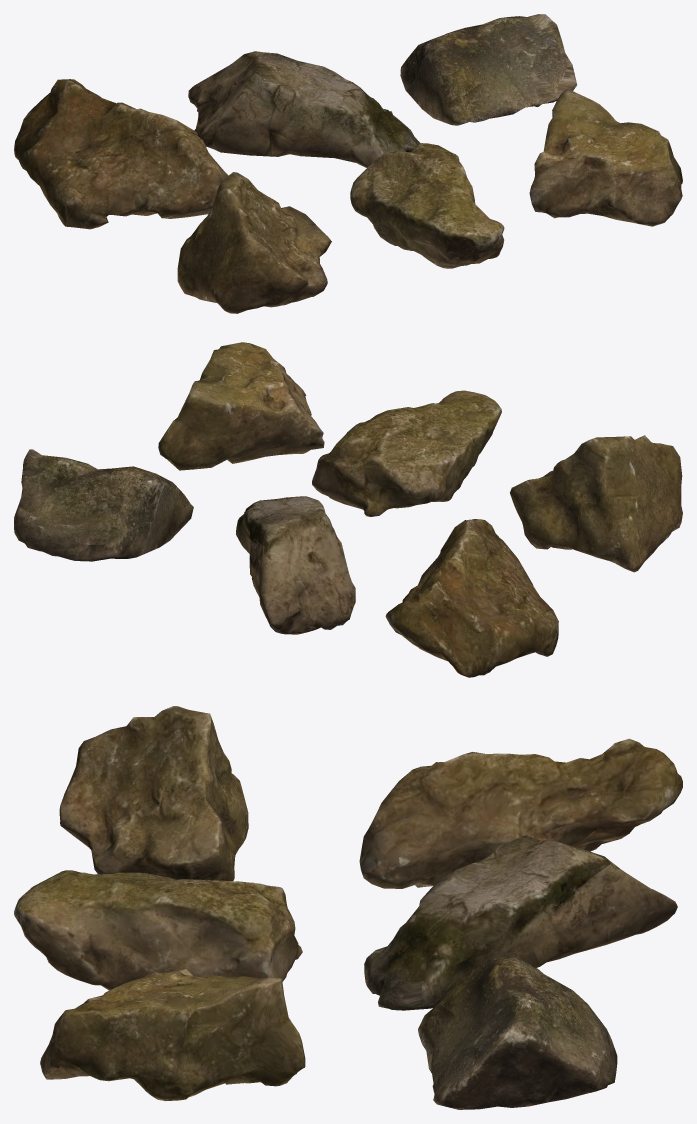
Rendered from rock_moss_set_01.glb.
The picture shows the model from 3 angles, top to bottom: view 1: azimuth 30°, elevation 25°; view 2: azimuth 150°, elevation 25°; view 3: azimuth 270°, elevation 25°; orthographic projection. The views are drawn at different scales.
Parts seen in each view (by area): view 1: rock_moss_set_01_rock01, rock_moss_set_01_rock02, rock_moss_set_01_rock06, rock_moss_set_01_rock04, rock_moss_set_01_rock03, rock_moss_set_01_rock05; view 2: rock_moss_set_01_rock04, rock_moss_set_01_rock01, rock_moss_set_01_rock05, rock_moss_set_01_rock03, rock_moss_set_01_rock06, rock_moss_set_01_rock02; view 3: rock_moss_set_01_rock01, rock_moss_set_01_rock02, rock_moss_set_01_rock05, rock_moss_set_01_rock06, rock_moss_set_01_rock04, rock_moss_set_01_rock03.
Boxes of the visible parts, left/top/right/bottom form: rock_moss_set_01_rock01: left=14, top=79, right=228, bottom=229; rock_moss_set_01_rock02: left=188, top=51, right=420, bottom=167; rock_moss_set_01_rock06: left=529, top=89, right=682, bottom=226; rock_moss_set_01_rock04: left=177, top=172, right=331, bottom=313; rock_moss_set_01_rock03: left=400, top=14, right=576, bottom=125; rock_moss_set_01_rock05: left=350, top=143, right=504, bottom=268; rock_moss_set_01_rock04: left=510, top=435, right=682, bottom=572; rock_moss_set_01_rock01: left=385, top=519, right=558, bottom=677; rock_moss_set_01_rock05: left=312, top=390, right=501, bottom=516; rock_moss_set_01_rock03: left=14, top=449, right=193, bottom=561; rock_moss_set_01_rock06: left=158, top=342, right=324, bottom=470; rock_moss_set_01_rock02: left=236, top=496, right=355, bottom=634; rock_moss_set_01_rock01: left=359, top=738, right=682, bottom=888; rock_moss_set_01_rock02: left=364, top=835, right=677, bottom=1010; rock_moss_set_01_rock05: left=14, top=870, right=302, bottom=990; rock_moss_set_01_rock06: left=40, top=969, right=305, bottom=1101; rock_moss_set_01_rock04: left=59, top=706, right=248, bottom=880; rock_moss_set_01_rock03: left=418, top=955, right=617, bottom=1109.
Bounding box in the file's own units: 8 × 1.76 × 6.94.
Materials: 1 (1 with a texture image).
